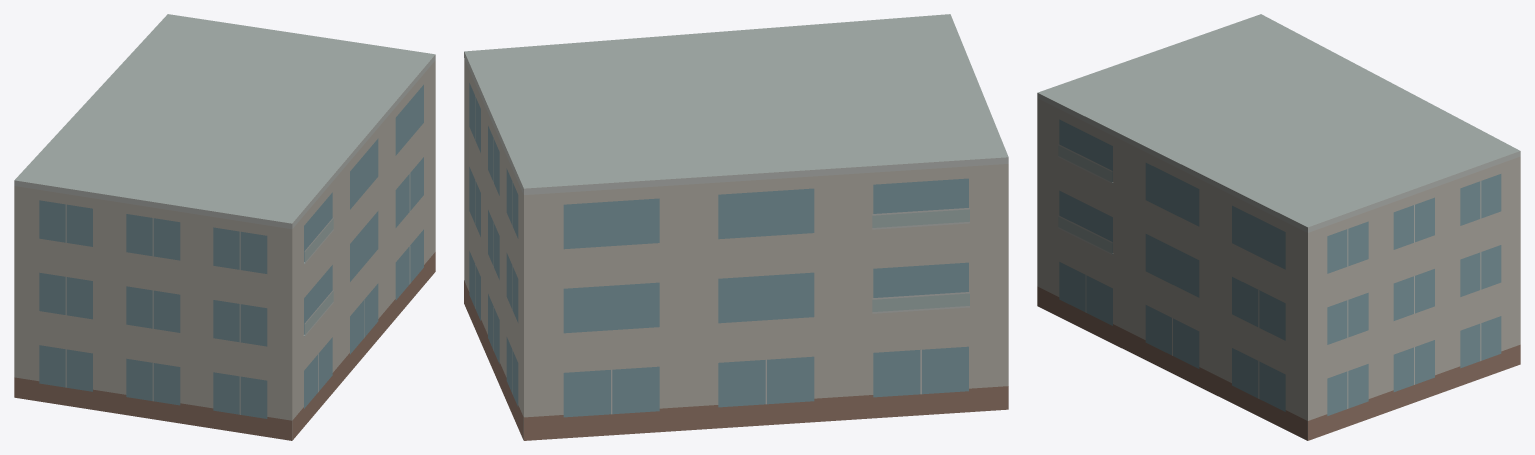
The model's file is survey-upis-32833619.glb.
3 views of the same model, side by side, from view 1: azimuth 30°, elevation 25°; view 2: azimuth 150°, elevation 25°; view 3: azimuth 270°, elevation 25° (orthographic). The views are drawn at different scales.
Visible parts, largest first — view 1: survey-upis-32833619.tmp; view 2: survey-upis-32833619.tmp; view 3: survey-upis-32833619.tmp.
Boxes of the visible parts, x1,y1,x2,y2 form: survey-upis-32833619.tmp: [14, 14, 435, 440]; survey-upis-32833619.tmp: [464, 14, 1008, 440]; survey-upis-32833619.tmp: [1037, 14, 1520, 440].
Size of the model in its own units: 20.16 by 9.4 by 19.29.
